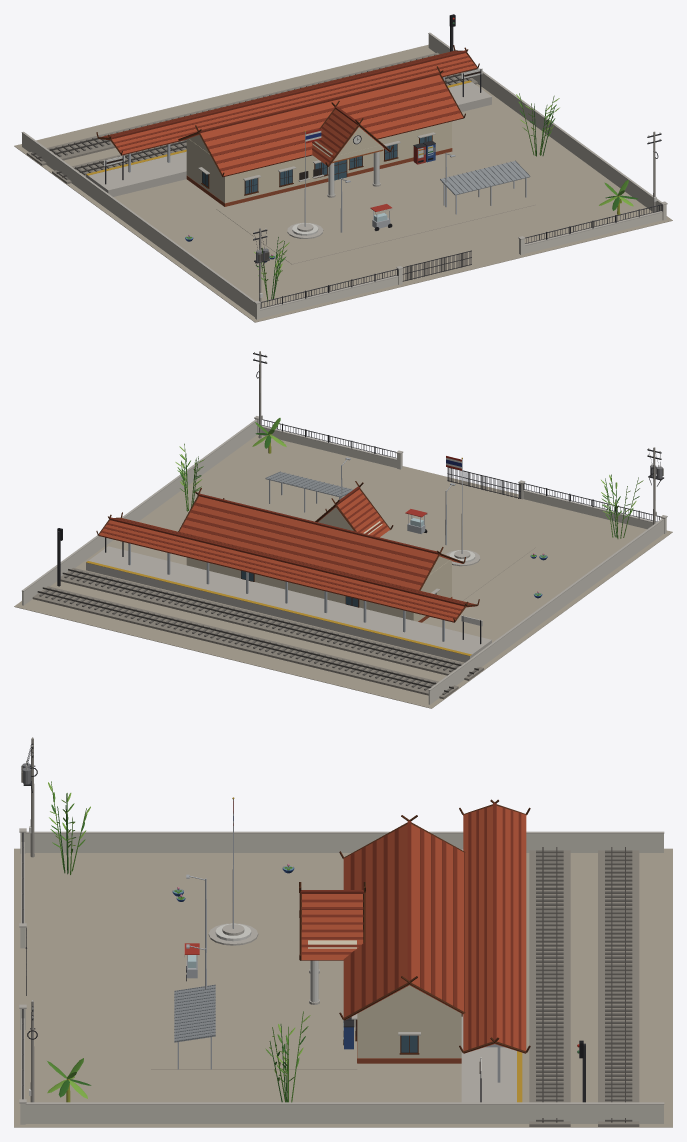
Rendered from station.glb.
3 renders of one model, top to bottom at view 1: azimuth 30°, elevation 25°; view 2: azimuth 150°, elevation 25°; view 3: azimuth 270°, elevation 25°, orthographic. The views are drawn at different scales.
Visible parts, largest first — view 1: body, windows; view 2: body; view 3: body.
Boxes of the visible parts, x1,y1,x2,y2 form: body: (14, 14, 672, 322); windows: (202, 17, 454, 193); body: (14, 351, 672, 708); body: (14, 737, 672, 1127).
Bounding box in the file's own units: 47.9 × 11.14 × 47.9.
